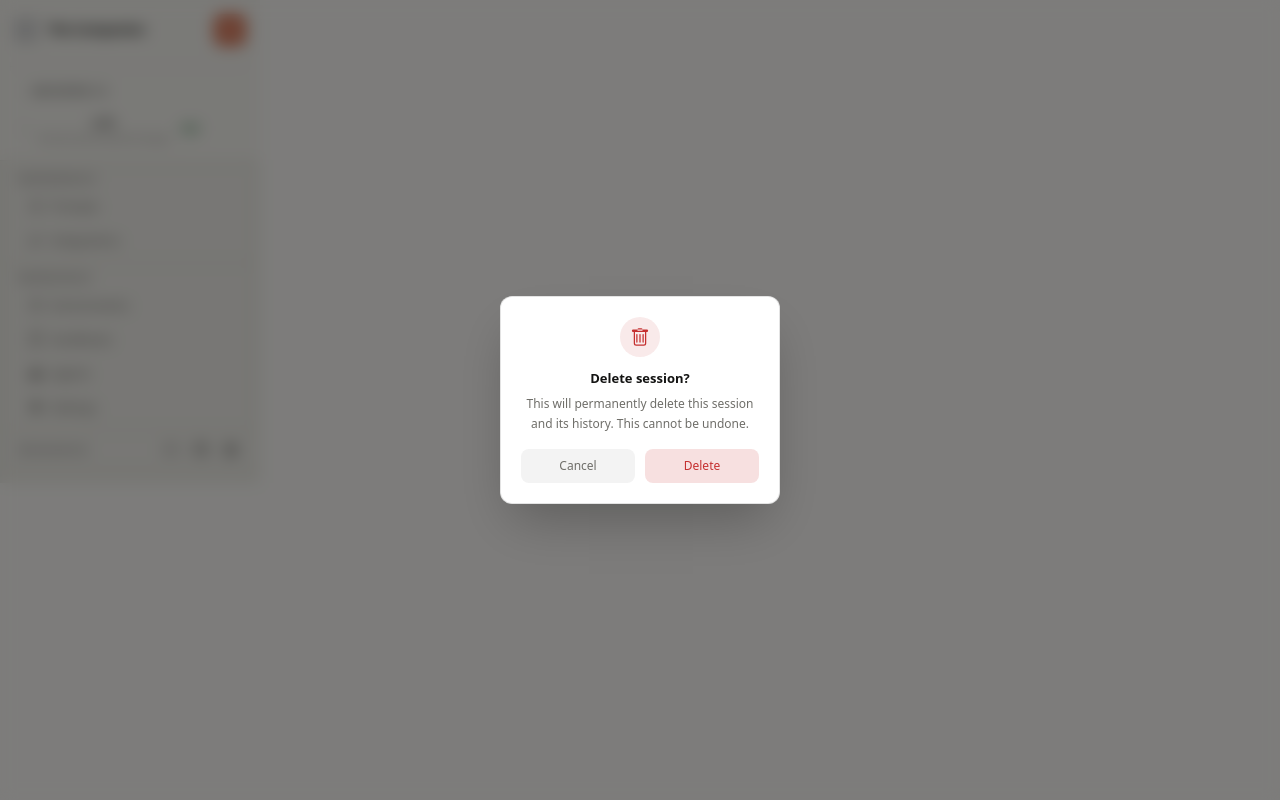
Test: Sidebar › clicking modal backdrop cancels the delete
This screenshot has width=1280, height=800.
Earlier steps of the test are not shown.
Step 1. Click the element with class "inset-0" → (77, 400), box [0,0,1279,799]
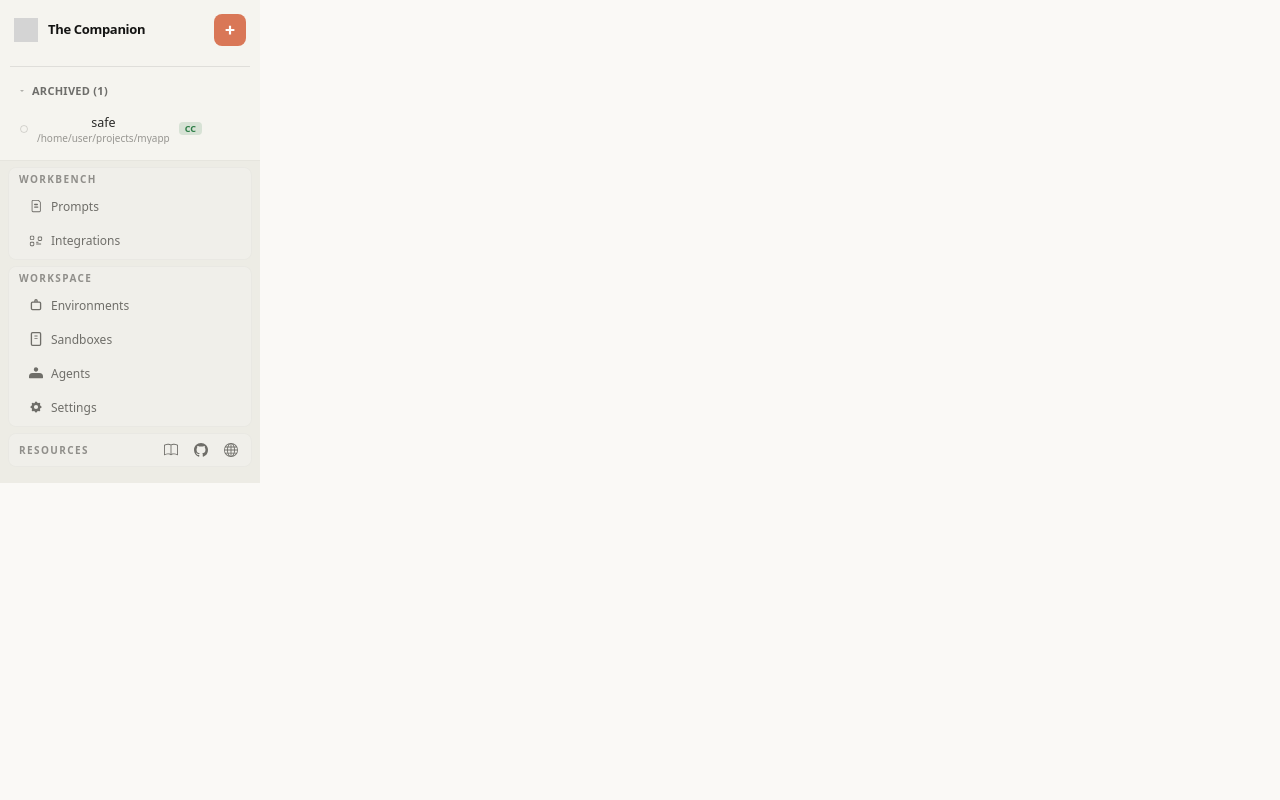
Expected: the text "Delete session?" is gone
